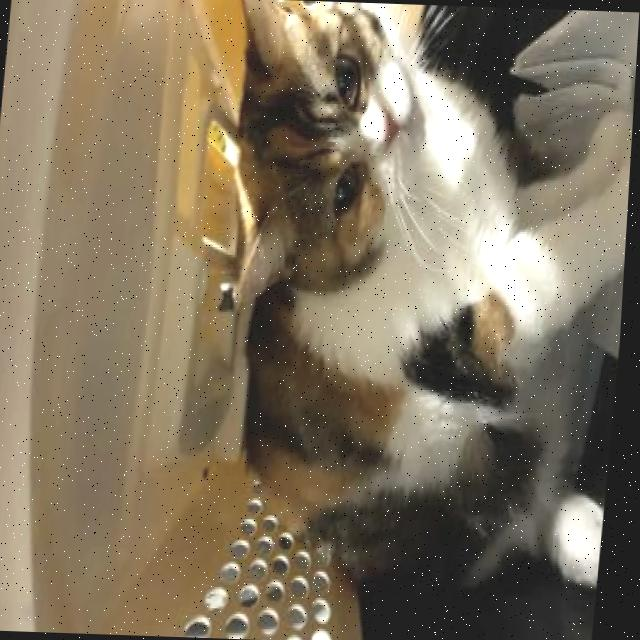Scottish Fold: (183, 0, 640, 599)
